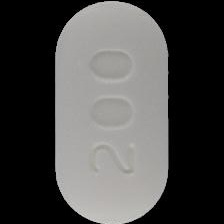68462-200: (0, 0, 224, 224)
